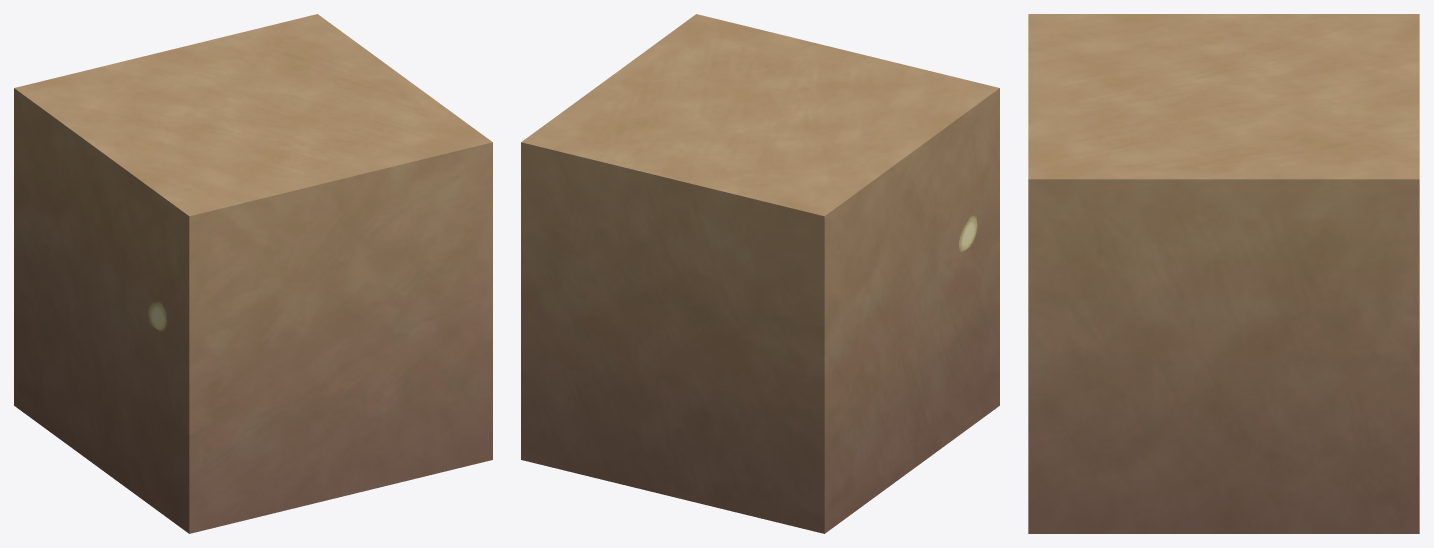
File: Sketchfab_2015_10_03_19_05_03.blend.fbx
3 views of the same model, side by side, from view 1: azimuth 30°, elevation 25°; view 2: azimuth 150°, elevation 25°; view 3: azimuth 270°, elevation 25° (orthographic). The views are drawn at different scales.
Visible parts, largest first — view 1: skybox; view 2: skybox; view 3: skybox.
Boxes of the visible parts, x1,y1,x2,y2 form: skybox: (14, 14, 492, 533); skybox: (521, 14, 999, 533); skybox: (1028, 14, 1419, 533).
Bounding box in the file's own units: 6634 × 6634 × 6634.
